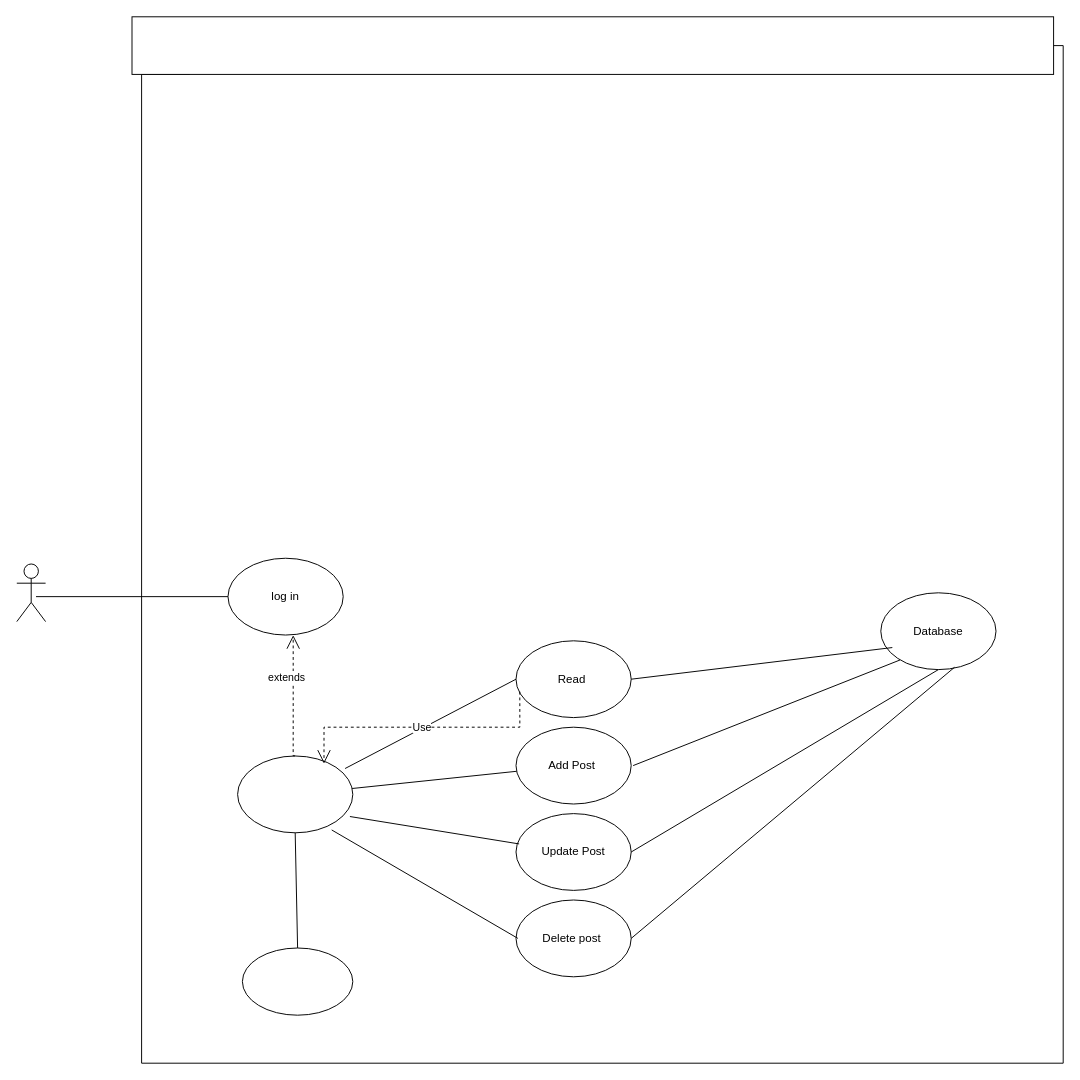
Image size: 1080x1080. Some labels were removed from this diagram. The shapes that lost their labels are listed below. From the top down, each one's box as (x1, y1, x2, y2) in pixels, then its label:
(131, 16, 1054, 74): USE CASE (BLOG)
(16, 563, 46, 622): Actor
(237, 755, 353, 833): POSTS
(241, 947, 353, 1015): log out
